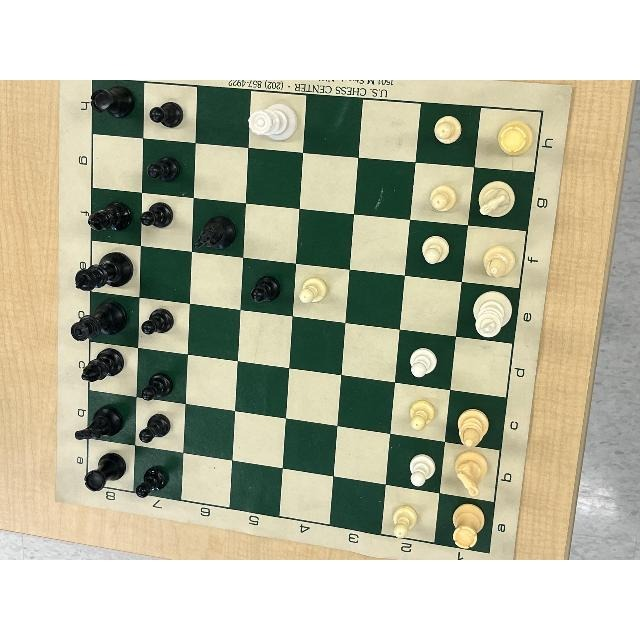black-bishop: (68, 349, 132, 386), (81, 197, 139, 237)
black-king: (64, 244, 136, 295)
black-knight: (67, 396, 129, 443), (196, 208, 240, 254)
black-pawn: (131, 410, 183, 452), (136, 306, 183, 348), (146, 94, 188, 139), (142, 362, 182, 406), (136, 457, 173, 503), (142, 193, 178, 239), (146, 149, 183, 187), (249, 266, 280, 311)
black-queen: (60, 304, 135, 345)
black-rook: (81, 445, 133, 496), (91, 85, 137, 126)
white-bishop: (445, 397, 496, 447), (470, 235, 519, 282)
white-king: (465, 289, 515, 342)
white-knight: (454, 445, 496, 499), (477, 175, 516, 223)
white-pawn: (417, 226, 459, 283), (292, 272, 338, 315), (388, 495, 424, 543), (402, 448, 440, 492), (402, 396, 444, 434), (430, 177, 462, 219), (434, 108, 464, 150), (405, 340, 436, 380)
white-queen: (247, 101, 306, 145)
white-rook: (495, 105, 537, 162), (444, 499, 488, 551)
